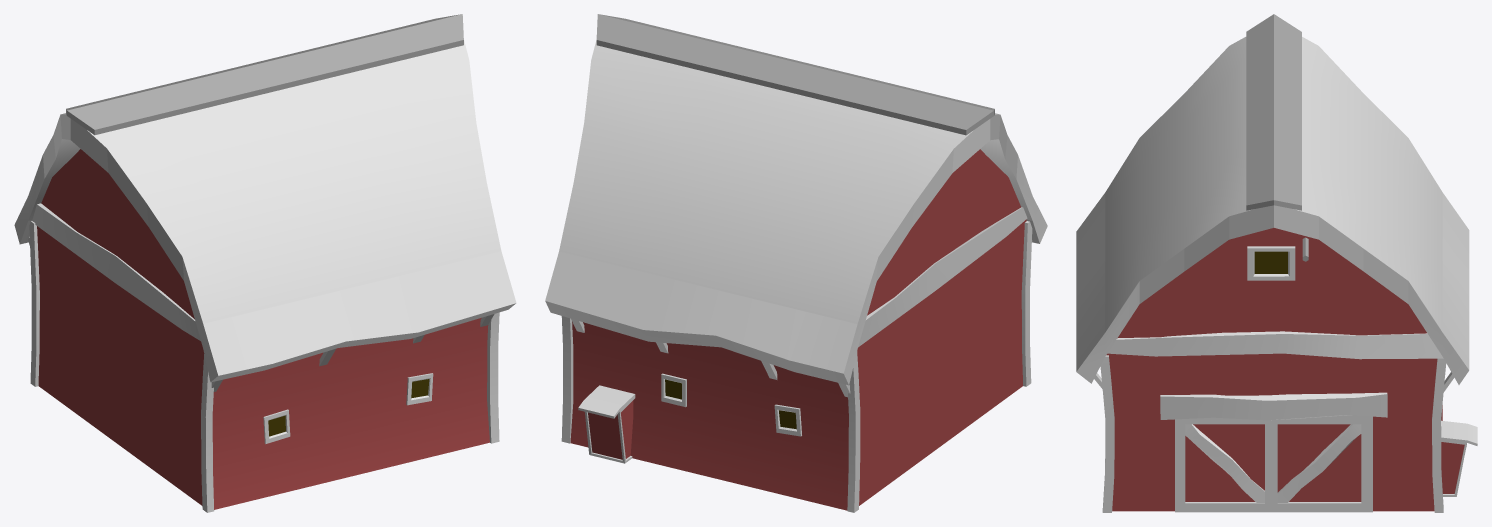
The model's file is barn_placeholder.fbx.
3 renders of one model, left to right at view 1: azimuth 30°, elevation 25°; view 2: azimuth 150°, elevation 25°; view 3: azimuth 270°, elevation 25°, orthographic. The views are drawn at different scales.
Visible parts, largest first — view 1: pCube5, pCube1, pCube26, pCube32, pCube31, pCube29, pCube30, pCube24, pCube22; view 2: pCube5, pCube1, pCube26, pCube32, pCube27, pCube30, pCube31, pCube28, pCube21, pCube20; view 3: pCube5, pCube1, pCube26, pCube6, pCube8, pCube7, pCube27, pCube25, pCube29, pCube9, pCube28, pCube10.
Boxes of the visible parts, box(x1,y1,x2,y2) form: pCube5: box(14, 40, 516, 382); pCube1: box(37, 149, 489, 509); pCube26: box(66, 14, 463, 135); pCube32: box(32, 203, 200, 340); pCube31: box(201, 354, 214, 512); pCube29: box(487, 312, 499, 443); pCube30: box(29, 221, 39, 386); pCube24: box(263, 409, 290, 443); pCube22: box(406, 373, 433, 405); pCube5: box(545, 40, 1047, 385); pCube1: box(570, 149, 1026, 510); pCube26: box(596, 14, 994, 135); pCube32: box(858, 207, 1027, 347); pCube27: box(578, 385, 635, 463); pCube30: box(847, 351, 860, 512); pCube31: box(1021, 221, 1032, 386); pCube28: box(561, 316, 573, 443); pCube21: box(774, 404, 801, 436); pCube20: box(661, 373, 686, 407); pCube5: box(1076, 37, 1469, 384); pCube1: box(1106, 228, 1442, 511); pCube26: box(1246, 14, 1301, 210); pCube6: box(1107, 331, 1443, 359); pCube8: box(1175, 415, 1372, 512); pCube7: box(1160, 392, 1387, 420); pCube27: box(1441, 420, 1477, 496); pCube25: box(1247, 246, 1295, 280); pCube29: box(1100, 355, 1114, 512); pCube9: box(1277, 424, 1361, 502); pCube28: box(1432, 358, 1446, 512); pCube10: box(1185, 424, 1264, 502).
Bounding box in the file's own units: 18.86 × 15.94 × 17.18.
